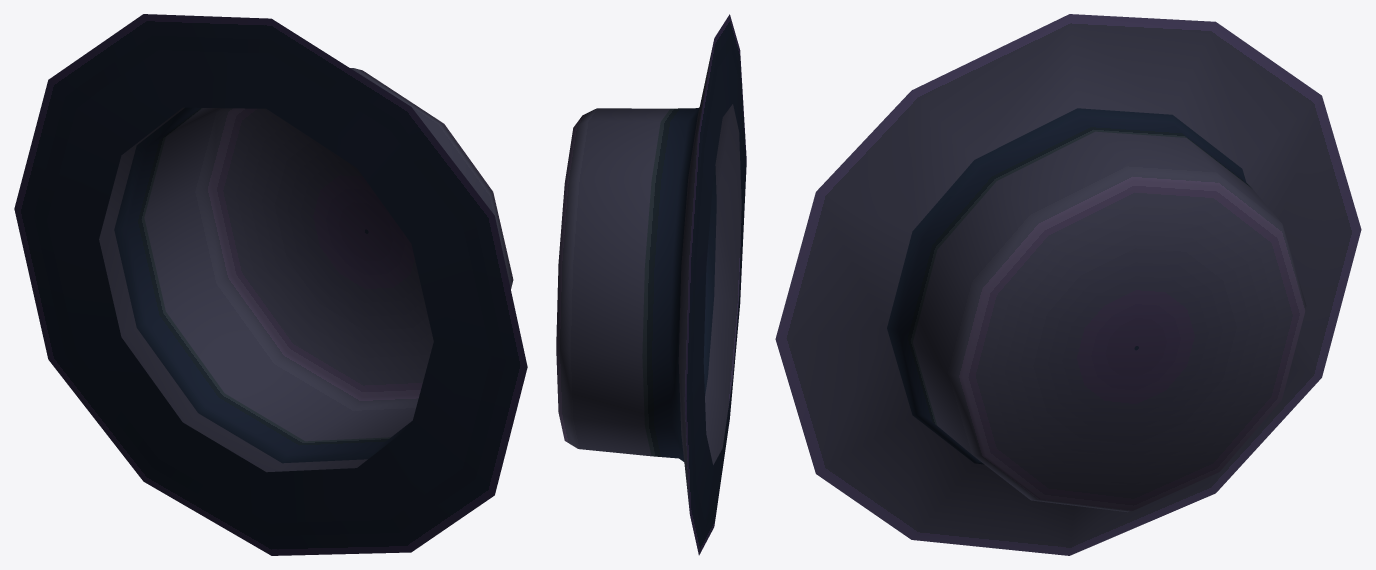
The model's file is cap_hat_flamenco.dae.
3 views of the same model, side by side, from view 1: azimuth 30°, elevation 25°; view 2: azimuth 150°, elevation 25°; view 3: azimuth 270°, elevation 25° (orthographic). The views are drawn at different scales.
Parts seen in each view (by area): view 1: cap_hat_flamenco; view 2: cap_hat_flamenco; view 3: cap_hat_flamenco.
Part boxes in pixels (x1=…): cap_hat_flamenco: x1=14, y1=14, x2=527, y2=555; cap_hat_flamenco: x1=556, y1=14, x2=746, y2=555; cap_hat_flamenco: x1=775, y1=14, x2=1361, y2=555.
Size of the model in its own units: 18.37 by 31.26 by 30.64.
2 materials, 2 textured.
